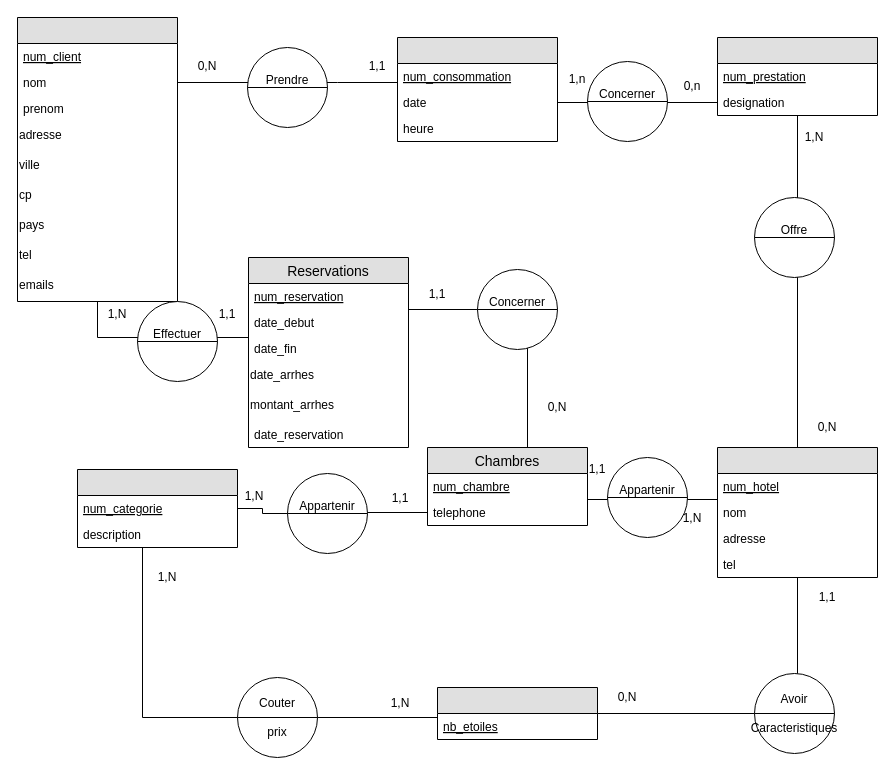
This 895x775 diagram has some shape labels left out. Here are the shapes that lost their labels. From the top down, the box of each, then its label:
(396, 36, 558, 142): Consommations
(716, 36, 878, 116): Prestations
(16, 16, 178, 302): Clients
(76, 468, 238, 548): Categories
(716, 446, 878, 578): Hotels
(436, 686, 598, 740): Classes
